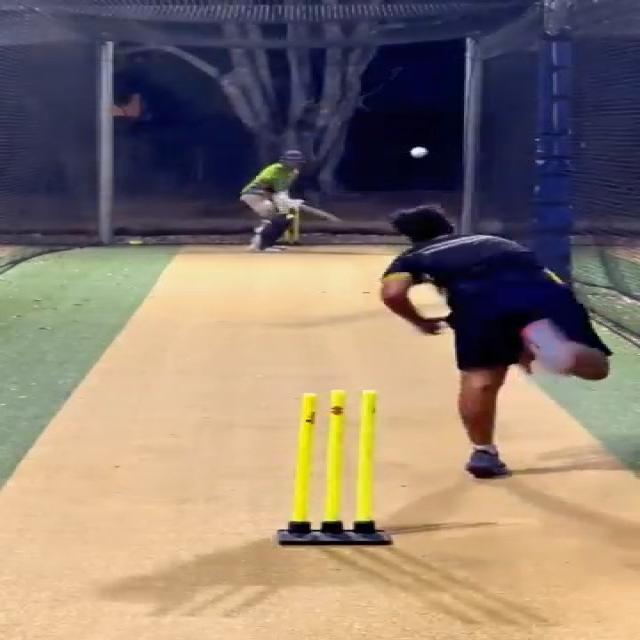ball: (407, 146, 430, 158)
stump: (276, 389, 395, 545)
